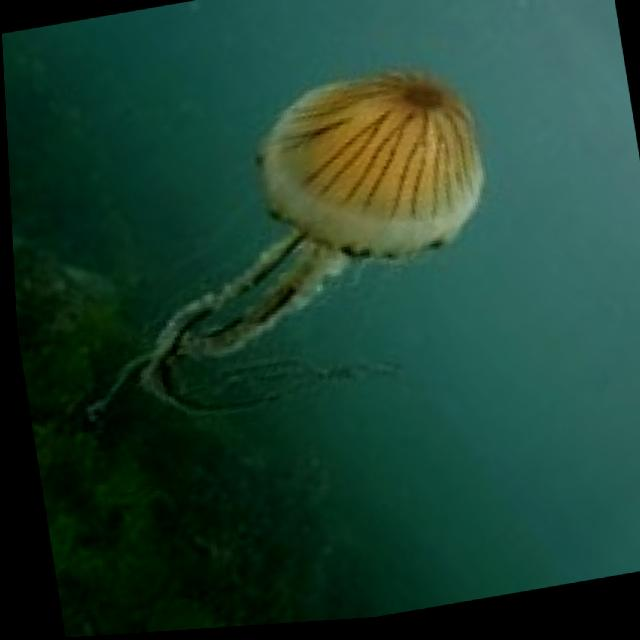Box-jellyfish: (27, 57, 517, 444)
